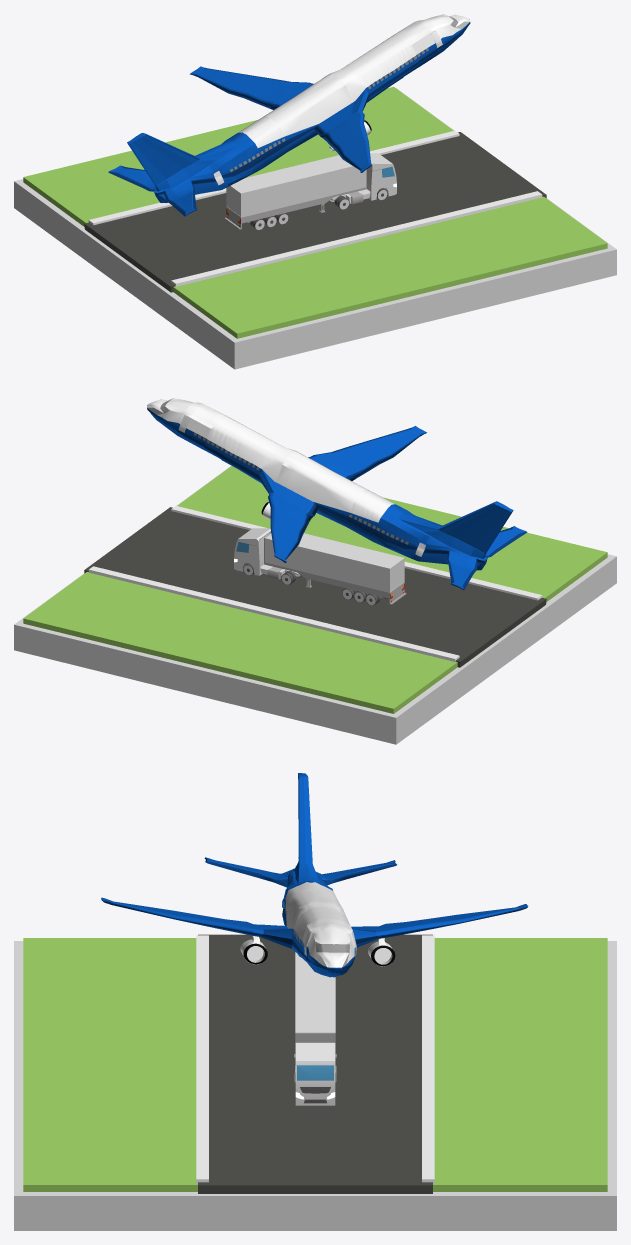
File: Logistica.glb
The picture shows the model from 3 angles, top to bottom: view 1: azimuth 30°, elevation 25°; view 2: azimuth 150°, elevation 25°; view 3: azimuth 270°, elevation 25°; orthographic projection. The views are drawn at different scales.
Visible parts, largest first — view 1: Cubo, Cubo.001, avion, Cubo.004, Object_9, Cubo.002, Cubo.003, Object_7; view 2: Cubo, avion, Cubo.001, Cubo.004, Object_9, Cubo.003, Cubo.002, Object_7; view 3: Cubo, Cubo.001, Cubo.004, avion, Object_9, Cubo.002, Cubo.003.
Boxes of the visible parts, left/top/right/bottom form: Cubo: left=23, top=86, right=607, bottom=338; Cubo.001: left=84, top=132, right=546, bottom=292; avion: left=108, top=14, right=470, bottom=216; Cubo.004: left=14, top=88, right=616, bottom=369; Object_9: left=226, top=153, right=396, bottom=229; Cubo.002: left=171, top=191, right=542, bottom=286; Cubo.003: left=88, top=130, right=459, bottom=225; Object_7: left=224, top=166, right=393, bottom=229; Cubo: left=23, top=466, right=607, bottom=713; avion: left=147, top=398, right=527, bottom=590; Cubo.001: left=84, top=507, right=546, bottom=667; Cubo.004: left=14, top=465, right=616, bottom=744; Object_9: left=234, top=528, right=404, bottom=605; Cubo.003: left=88, top=566, right=459, bottom=661; Cubo.002: left=171, top=506, right=542, bottom=600; Object_7: left=237, top=533, right=406, bottom=604; Cubo: left=23, top=938, right=607, bottom=1191; Cubo.001: left=198, top=934, right=432, bottom=1193; Cubo.004: left=14, top=941, right=616, bottom=1230; avion: left=101, top=773, right=528, bottom=977; Object_9: left=295, top=952, right=335, bottom=1105; Cubo.002: left=196, top=935, right=208, bottom=1183; Cubo.003: left=422, top=935, right=434, bottom=1183.
Size of the model in its own units: 2.07 by 0.9707 by 2.06.
